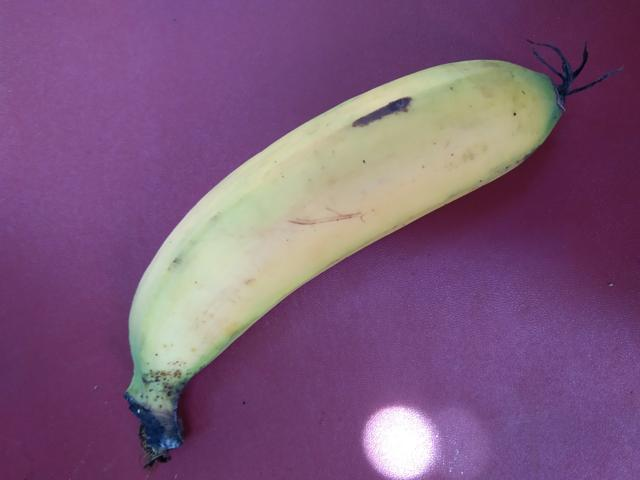ripe: (81, 50, 555, 425)
